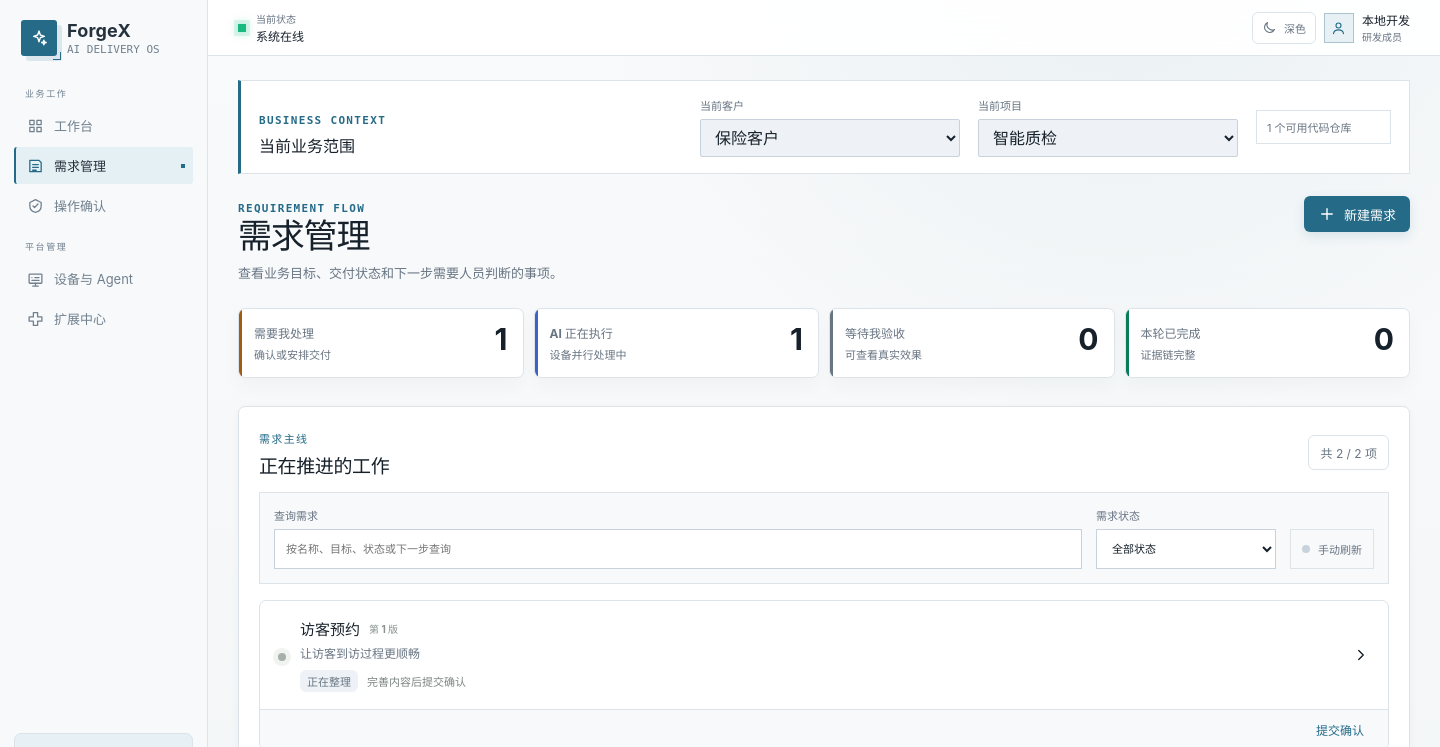
Test case: RequirementWorkbench › 用统一查询区筛选需求列表
The width and height of the screenshot is (1440, 747).
Type "工单" into the search field labelled "查询需求" at (678, 549), box [274, 529, 1082, 569]
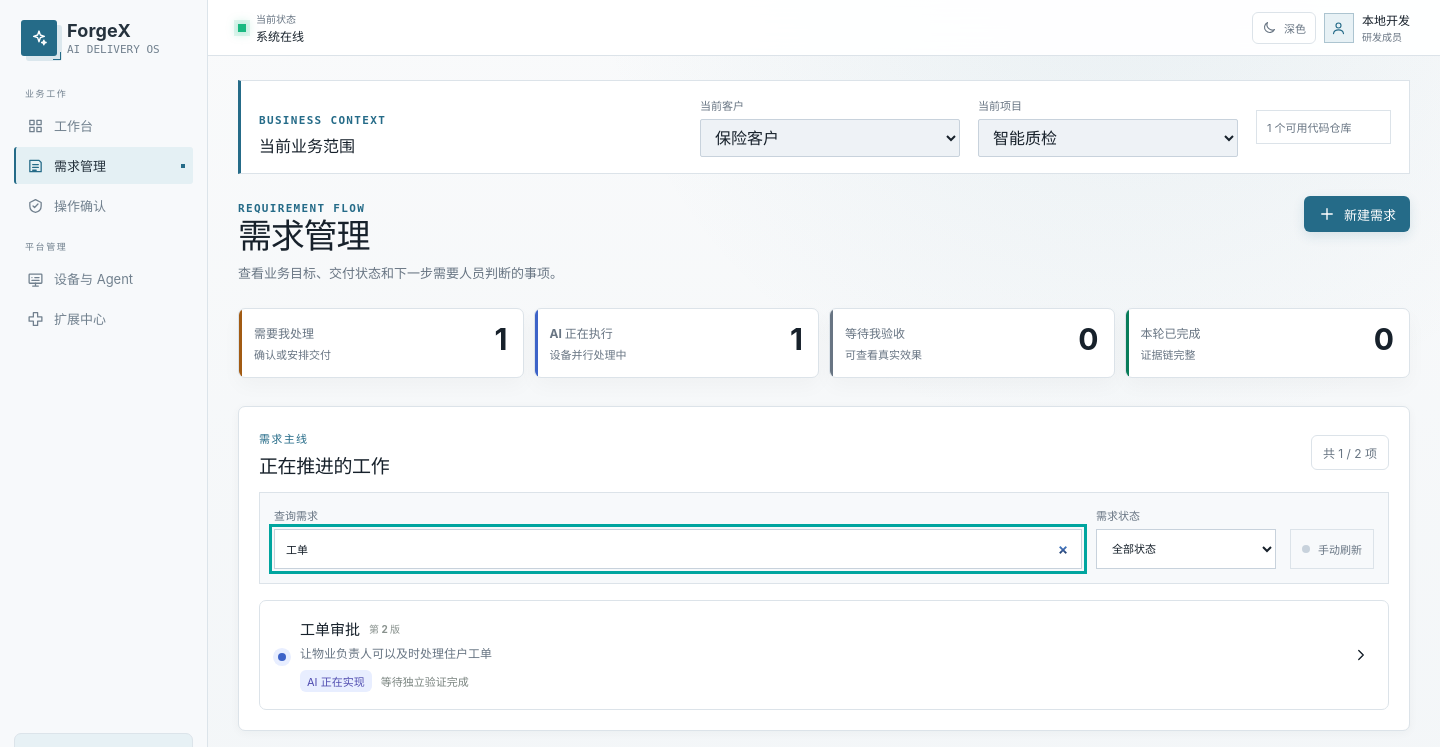
Expected: the text "工单审批" is shown, [300, 618, 360, 639]
Expected: the button "访客预约" is gone
